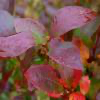Blueberry leaf: (50, 4, 100, 39), (0, 29, 44, 60), (23, 62, 65, 94), (46, 40, 86, 72)
